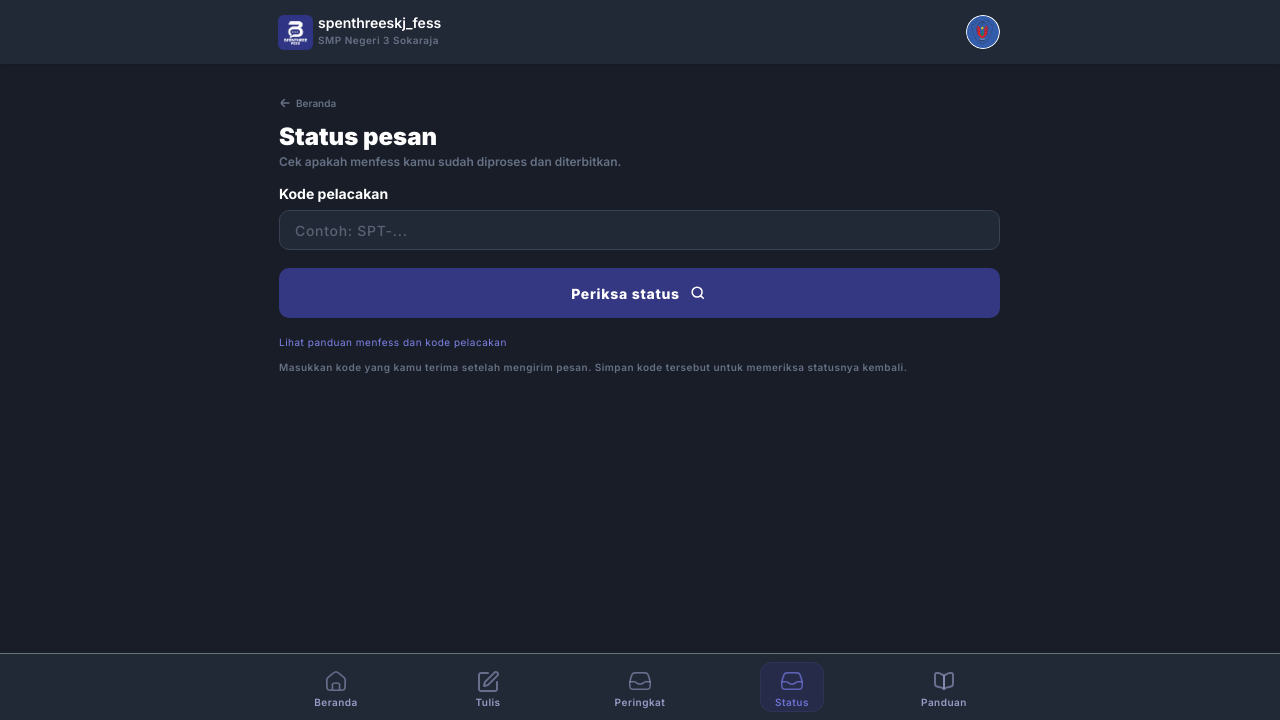
Test case: preserved menfess integration › stops the polling interval at a terminal delivery status but keeps visibility refresh
The width and height of the screenshot is (1280, 720).
In the field labelled "Kode pelacakan": (640, 230) [279,210,1000,250], type "SPT-interval"
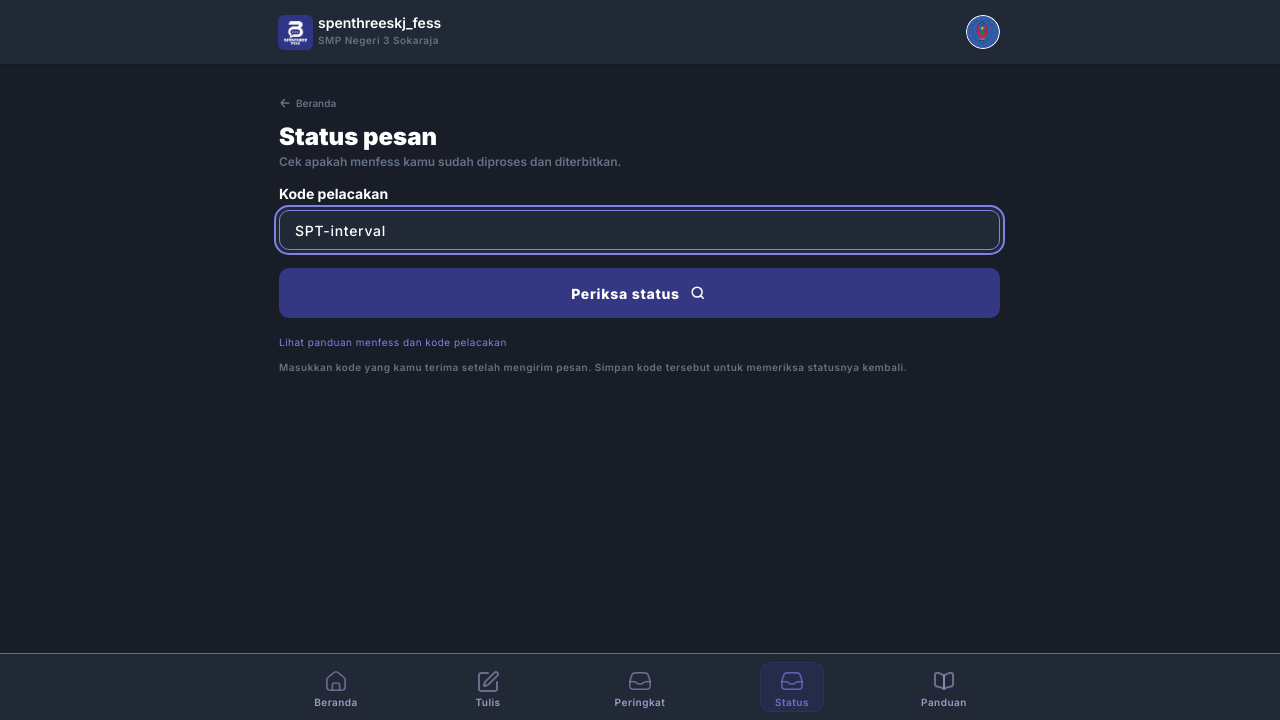
Click the button "Periksa status": click(640, 293) [279,268,1000,318]
Wait 45000 ms
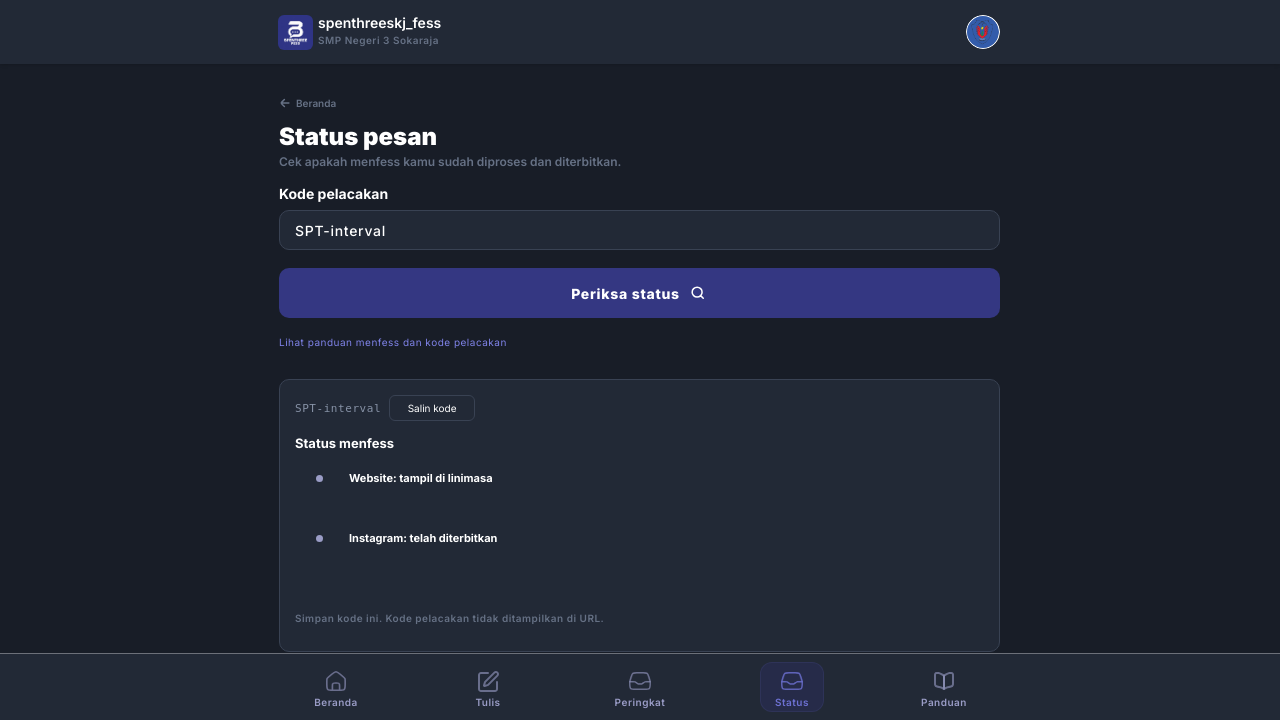
Expected: the heading "Website: tampil di linimasa" is shown, [349,471,492,485]
